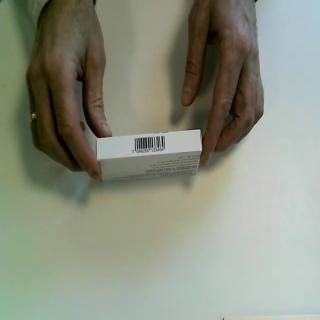oxycontin5mg: (96, 129, 204, 184)
